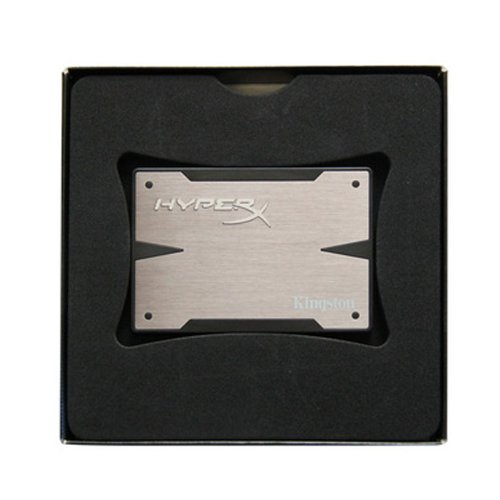Kingston: (287, 287, 359, 314)
